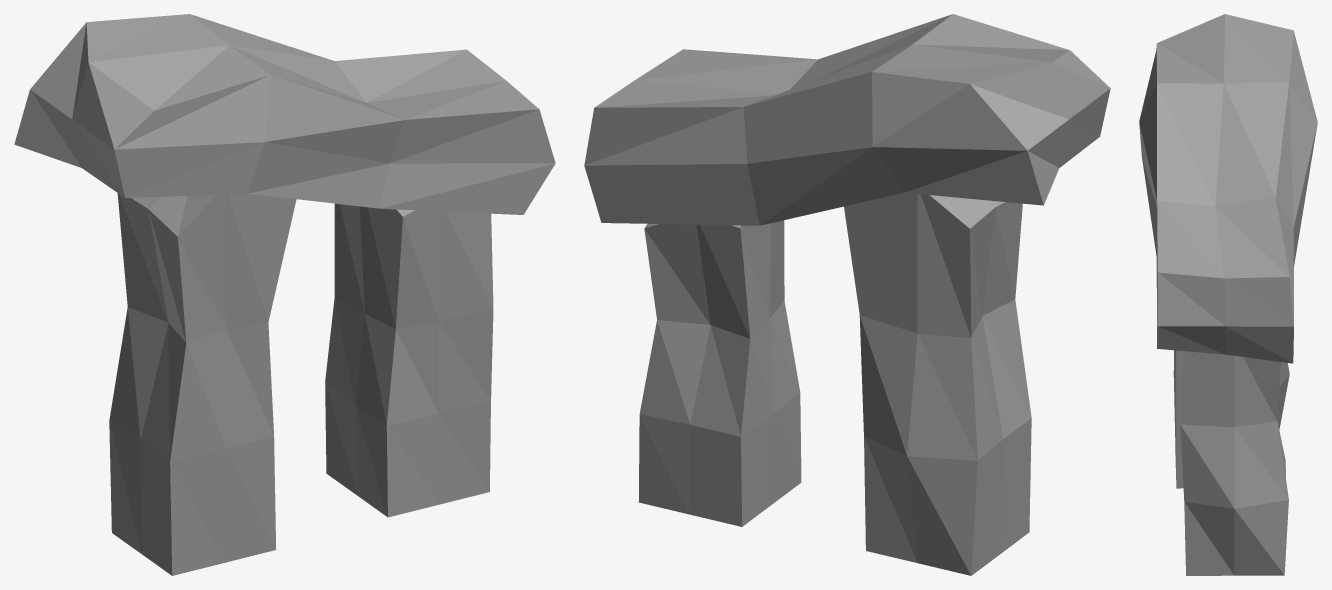
File: Isl_12_Stones_1.fbx
3 renders of one model, left to right at view 1: azimuth 30°, elevation 25°; view 2: azimuth 150°, elevation 25°; view 3: azimuth 270°, elevation 25°, orthographic. The views are drawn at different scales.
Visible parts, largest first — view 1: Isl_12_Stones_1; view 2: Isl_12_Stones_1; view 3: Isl_12_Stones_1.
Part boxes in pixels (x1,y1,x2,y2): Isl_12_Stones_1: (14,14,555,575); Isl_12_Stones_1: (584,14,1110,575); Isl_12_Stones_1: (1139,14,1317,575).
Size of the model in its own units: 611 by 252 by 642.
Materials: 1 (1 with a texture image).
